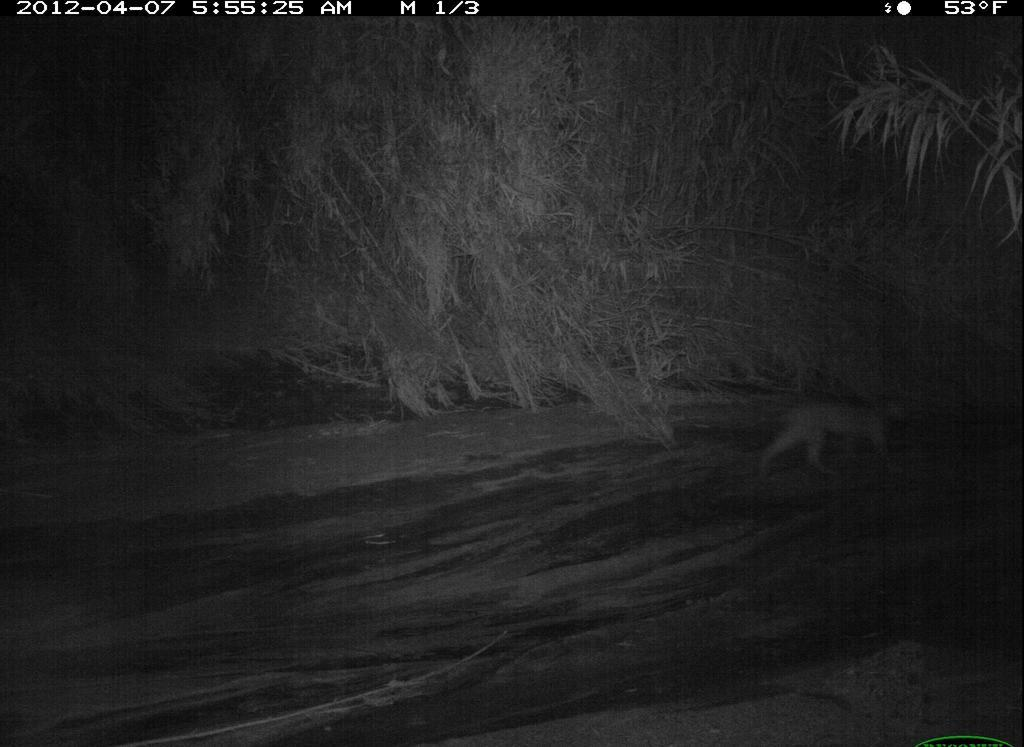bobcat: (745, 386, 920, 484)
